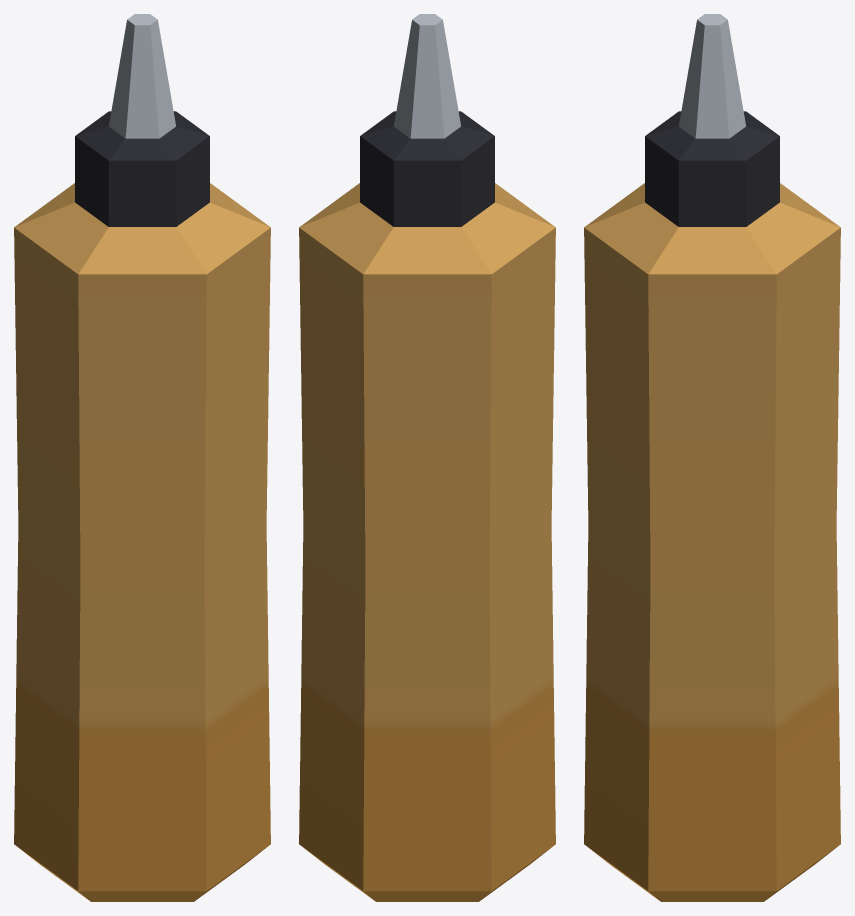
The model's file is SM_Prop_SauceBottle_01.fbx.
The picture shows the model from 3 angles, left to right: view 1: azimuth 30°, elevation 25°; view 2: azimuth 150°, elevation 25°; view 3: azimuth 270°, elevation 25°; orthographic projection.
Visible parts, largest first — view 1: SM_Prop_SauceBottle_01; view 2: SM_Prop_SauceBottle_01; view 3: SM_Prop_SauceBottle_01.
Part boxes in pixels (x1=…): SM_Prop_SauceBottle_01: x1=14, y1=14, x2=270, y2=901; SM_Prop_SauceBottle_01: x1=299, y1=14, x2=555, y2=901; SM_Prop_SauceBottle_01: x1=584, y1=14, x2=840, y2=901.
Size of the model in its own units: 0.1159 by 0.4856 by 0.1339.
1 material, 1 textured.
